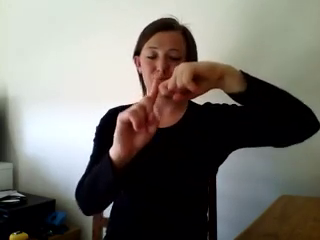K: (114, 58, 223, 155)
